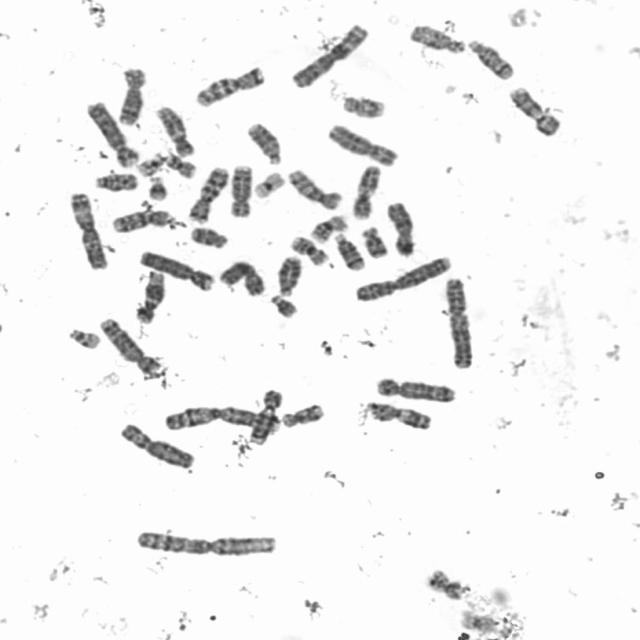A1: (132, 528, 287, 559), (162, 404, 280, 439)
A2: (355, 256, 452, 302), (443, 275, 476, 370)
A3: (286, 23, 369, 91), (68, 192, 109, 272)
B4: (85, 100, 140, 168), (139, 250, 217, 294)
B5: (99, 316, 162, 375), (376, 376, 456, 403)
C10: (287, 168, 343, 212), (110, 209, 176, 235)
C11: (367, 401, 433, 432), (351, 162, 382, 220)
C12: (154, 104, 195, 158), (134, 270, 167, 325)
C6: (119, 421, 198, 471), (325, 122, 399, 167)
C7: (193, 64, 270, 110), (187, 165, 230, 222)
C8: (117, 66, 149, 128), (229, 162, 253, 218)
C9: (510, 86, 562, 139), (248, 388, 284, 447)
D13: (248, 121, 284, 166), (276, 254, 302, 296)
D14: (468, 38, 516, 80), (332, 233, 368, 273)
D15: (404, 23, 466, 54), (93, 171, 139, 192)
E16: (289, 234, 331, 268), (308, 214, 354, 243)
E17: (339, 91, 387, 118), (280, 402, 324, 428)
E18: (188, 224, 232, 250), (359, 225, 388, 259)
F19: (252, 170, 286, 200), (458, 609, 498, 634)
F20: (423, 567, 471, 603), (164, 152, 197, 178)
G21: (268, 294, 300, 320), (146, 176, 170, 202)
G22: (134, 150, 168, 178), (66, 329, 104, 351)
X: (218, 259, 267, 299), (385, 200, 417, 258)
